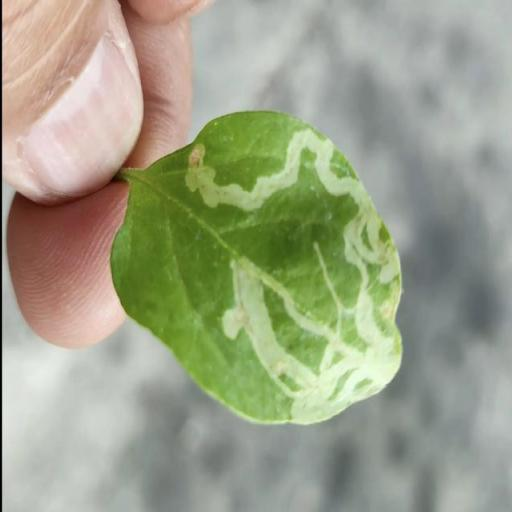Leaf Miner: (108, 112, 404, 424)
